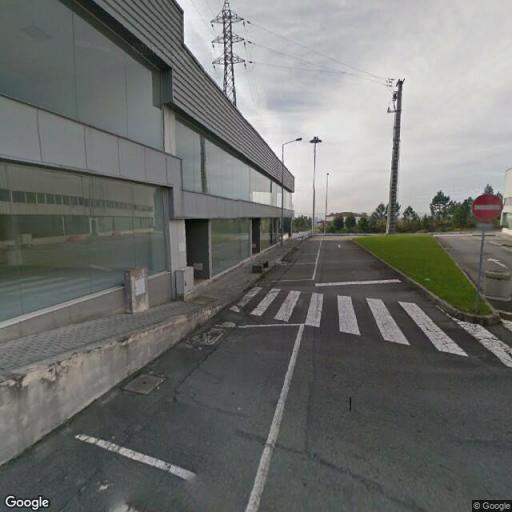mono_7: (385, 73, 407, 243)
ss_3: (209, 0, 250, 108)
